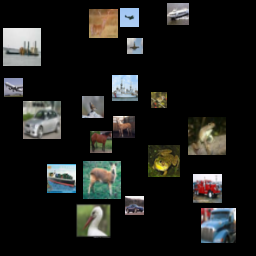airplane: (120, 8, 139, 27), (4, 78, 23, 97), (127, 38, 143, 54)
automobile: (23, 101, 61, 139), (125, 196, 144, 215)
bird: (76, 203, 111, 238), (82, 96, 104, 118), (151, 92, 167, 108)
deer: (83, 161, 121, 199), (89, 9, 118, 38)
frog: (188, 117, 226, 155), (148, 145, 180, 177)
ship: (3, 28, 41, 66), (47, 164, 76, 193), (112, 75, 138, 101), (167, 3, 189, 25)
